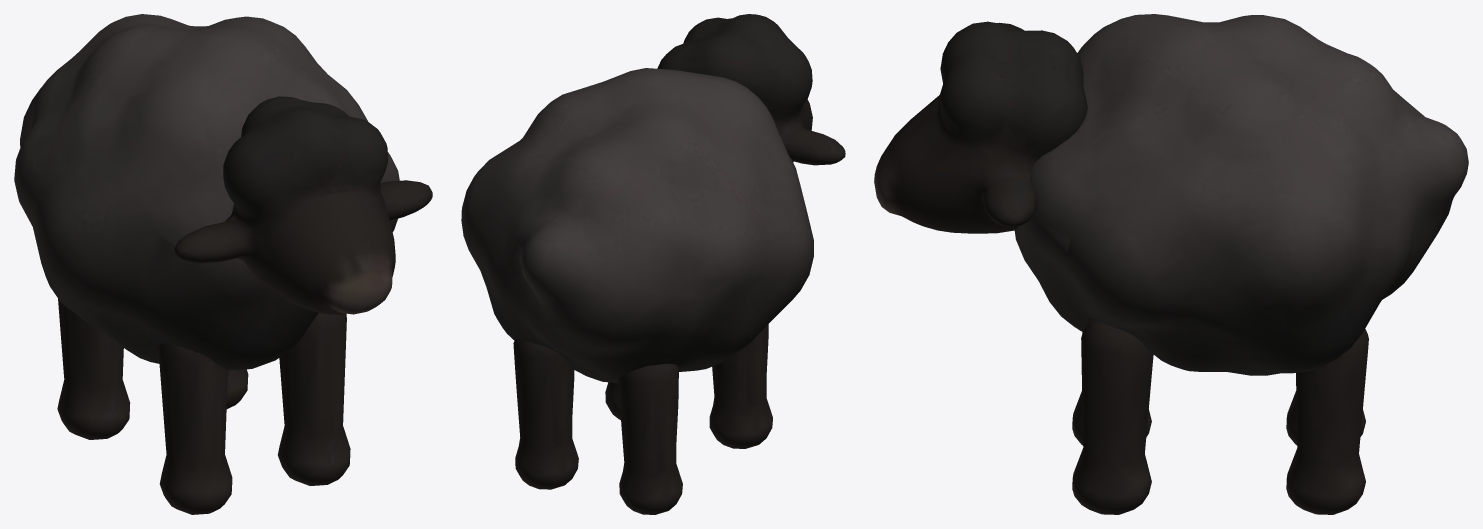
The model's file is animal_black_sheep.glb.
The picture shows the model from 3 angles, left to right: view 1: azimuth 30°, elevation 25°; view 2: azimuth 150°, elevation 25°; view 3: azimuth 270°, elevation 25°; orthographic projection. The views are drawn at different scales.
Parts seen in each view (by area): view 1: animal_black_sheep, head, leg0, leg1, leg2, leg3; view 2: animal_black_sheep, head, leg2, leg3, leg0, leg1; view 3: animal_black_sheep, head, leg1, leg3.
Part boxes in pixels (<box>): animal_black_sheep: <box>14,14,399,370</box>; head: <box>174,96,432,314</box>; leg0: <box>158,343,232,514</box>; leg1: <box>278,313,350,485</box>; leg2: <box>57,299,130,439</box>; leg3: <box>226,369,248,408</box>; animal_black_sheep: <box>461,68,813,383</box>; head: <box>657,14,845,165</box>; leg2: <box>618,363,682,514</box>; leg3: <box>513,339,578,489</box>; leg0: <box>709,324,772,448</box>; leg1: <box>605,382,620,419</box>; animal_black_sheep: <box>1014,14,1468,375</box>; head: <box>874,21,1087,233</box>; leg1: <box>1072,318,1153,514</box>; leg3: <box>1286,329,1368,514</box>.
Size of the model in its own units: 0.3386 by 0.4192 by 0.5.
Materials: 1 (1 with a texture image).
